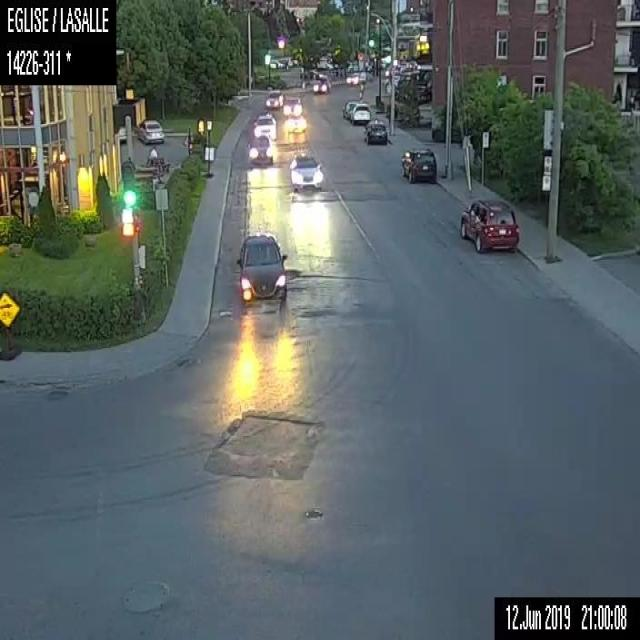pedestrian: (148, 144, 157, 158)
vehicle: (238, 232, 288, 305), (457, 196, 518, 255), (399, 145, 437, 183), (287, 151, 321, 192), (246, 136, 276, 166), (136, 118, 162, 144), (363, 119, 386, 144), (252, 112, 274, 138), (349, 102, 372, 122), (281, 96, 303, 116), (285, 115, 305, 134), (264, 89, 281, 109), (312, 74, 328, 92), (342, 99, 358, 116), (345, 72, 362, 84)
